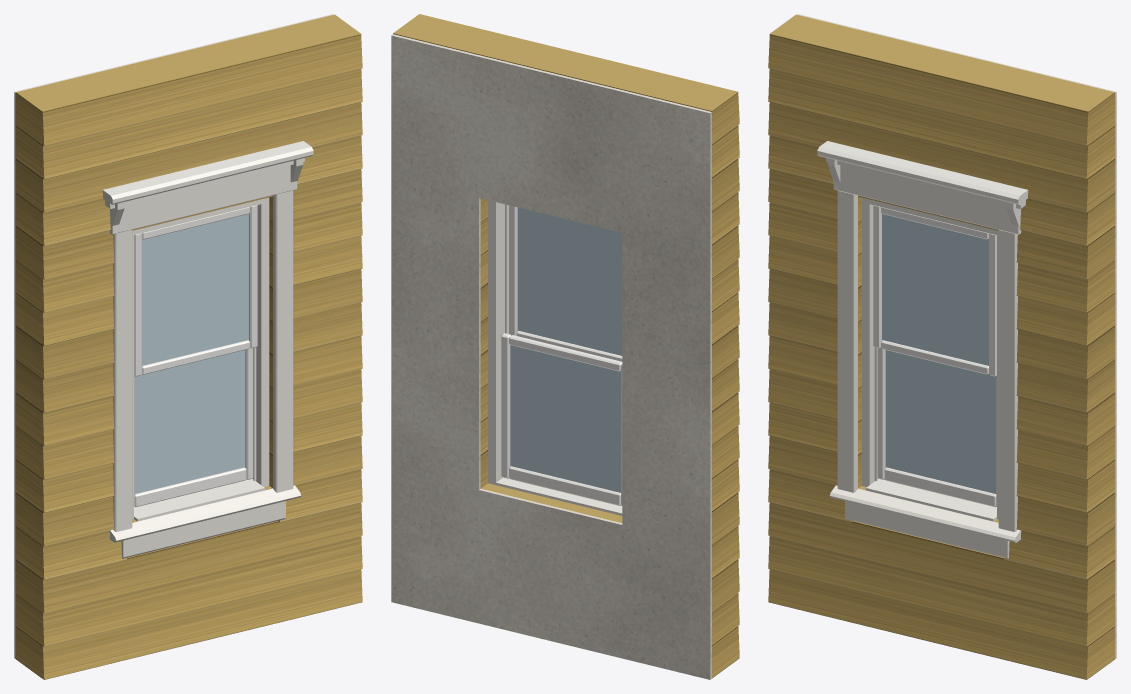
Rendered from b_u_win_a.glb.
The picture shows the model from 3 angles, left to right: view 1: azimuth 30°, elevation 25°; view 2: azimuth 150°, elevation 25°; view 3: azimuth 330°, elevation 25°; orthographic projection.
Visible parts, largest first — view 1: b_u_win_a_siding_a, b_u_win_a_trim, b_u_win_a_glass, b_u_win_a_sash, b_u_win_a_frame, b_u_win_a_plaster; view 2: b_u_win_a_plaster, b_u_win_a_siding_a, b_u_win_a_glass, b_u_win_a_sash, b_u_win_a_frame, b_u_win_a_trim; view 3: b_u_win_a_siding_a, b_u_win_a_trim, b_u_win_a_glass, b_u_win_a_sash, b_u_win_a_frame, b_u_win_a_plaster.
Boxes of the visible parts, left/top/right/bottom form: b_u_win_a_siding_a: left=16, top=14, right=362, bottom=679; b_u_win_a_trim: left=102, top=141, right=313, bottom=558; b_u_win_a_glass: left=134, top=214, right=248, bottom=493; b_u_win_a_sash: left=134, top=205, right=257, bottom=507; b_u_win_a_frame: left=132, top=197, right=269, bottom=519; b_u_win_a_plaster: left=14, top=14, right=333, bottom=658; b_u_win_a_plaster: left=391, top=34, right=711, bottom=679; b_u_win_a_siding_a: left=393, top=14, right=739, bottom=678; b_u_win_a_glass: left=510, top=207, right=622, bottom=492; b_u_win_a_sash: left=501, top=205, right=622, bottom=505; b_u_win_a_frame: left=488, top=200, right=508, bottom=484; b_u_win_a_trim: left=496, top=477, right=622, bottom=515; b_u_win_a_siding_a: left=768, top=14, right=1114, bottom=679; b_u_win_a_trim: left=817, top=141, right=1028, bottom=558; b_u_win_a_glass: left=882, top=214, right=996, bottom=493; b_u_win_a_sash: left=873, top=205, right=996, bottom=507; b_u_win_a_frame: left=861, top=197, right=998, bottom=519; b_u_win_a_plaster: left=797, top=14, right=1116, bottom=658.
Size of the model in its own units: 2 by 3.4 by 0.43.
Materials: 6 (2 with a texture image).
